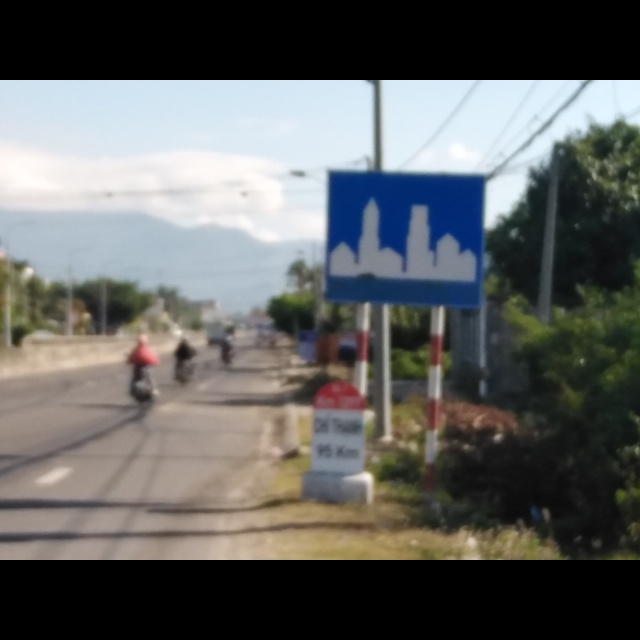Khu đông dân cư: (323, 169, 489, 306)
